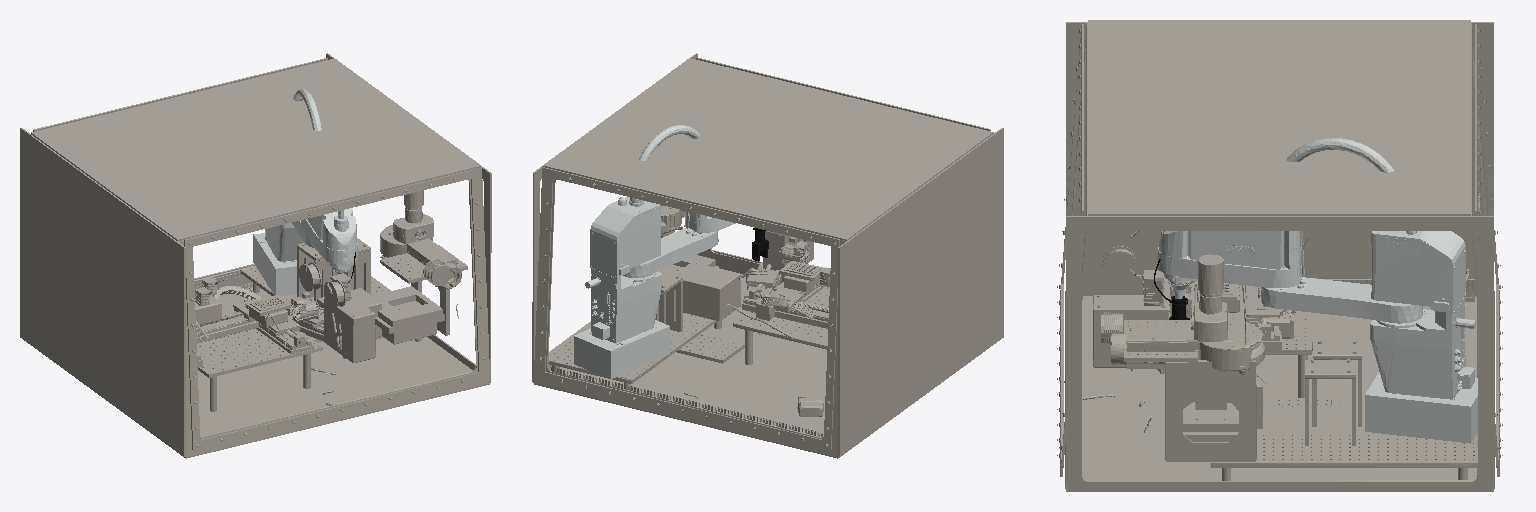
robot.urdf — aurora_glovebox:
<?xml version="1.0"?>
<!-- Aurora exfoliation glovebox: the reconstruction in design/aurora-security-cams/reconstruction as an articulated model. World frame = chamber frame (x from the antechamber-end wall, y from the open side, z up from the deck). Written by urdf_export.py. -->
<robot name="aurora_glovebox">
  <link name="world"/>
  <link name="glovebox">
    <visual><origin xyz="0.000000 0.000000 0.000000" rpy="0 0 0"/><geometry><mesh filename="meshes/glovebox.stl" scale="0.001 0.001 0.001"/></geometry><material name="glovebox_mat"><color rgba="0.72 0.70 0.66 1"/></material></visual>
    <collision><origin xyz="0.000000 0.000000 0.000000" rpy="0 0 0"/><geometry><mesh filename="meshes/glovebox.stl" scale="0.001 0.001 0.001"/></geometry></collision>
  </link>
  <joint name="world_to_glovebox" type="fixed">
    <parent link="world"/><child link="glovebox"/>
    <origin xyz="0.000000 0.000000 0.000000" rpy="0.000000 0.000000 0.000000"/>
  </joint>
  <link name="epson_base">
    <visual><origin xyz="0.000000 0.000000 0.000000" rpy="0 0 0"/><geometry><mesh filename="meshes/epson_base.stl" scale="0.001 0.001 0.001"/></geometry><material name="epson_base_mat"><color rgba="0.83 0.85 0.84 1"/></material></visual>
    <collision><origin xyz="0.000000 0.000000 0.000000" rpy="0 0 0"/><geometry><mesh filename="meshes/epson_base.stl" scale="0.001 0.001 0.001"/></geometry></collision>
  </link>
  <!-- J1 axis at the base's underside; the base's front (Epson local +X) at yaw from +x -->
  <joint name="epson_mount" type="fixed">
    <parent link="glovebox"/><child link="epson_base"/>
    <origin xyz="0.936700 0.875200 0.182200" rpy="0.000000 0.000000 4.453731"/>
  </joint>
  <link name="epson_arm1">
    <visual><origin xyz="0.000000 0.000000 0.000000" rpy="0 0 0"/><geometry><mesh filename="meshes/epson_arm1.stl" scale="0.001 0.001 0.001"/></geometry><material name="epson_arm1_mat"><color rgba="0.83 0.85 0.84 1"/></material></visual>
    <collision><origin xyz="0.000000 0.000000 0.000000" rpy="0 0 0"/><geometry><mesh filename="meshes/epson_arm1.stl" scale="0.001 0.001 0.001"/></geometry></collision>
  </link>
  <!-- velocity: the spec sheet gives J1 and J2 only as a composite tool speed; J4's limit is used as a loose bound -->
  <joint name="J1" type="revolute">
    <parent link="epson_base"/><child link="epson_arm1"/>
    <origin xyz="0.000000 0.000000 0.000000" rpy="0.000000 0.000000 0.000000"/>
    <axis xyz="0 0 1"/>
    <limit lower="-2.303835" upper="2.303835" effort="100" velocity="31.4159"/>
  </joint>
  <link name="epson_arm2">
    <visual><origin xyz="0.000000 0.000000 0.000000" rpy="0 0 0"/><geometry><mesh filename="meshes/epson_arm2.stl" scale="0.001 0.001 0.001"/></geometry><material name="epson_arm2_mat"><color rgba="0.83 0.85 0.84 1"/></material></visual>
    <collision><origin xyz="0.000000 0.000000 0.000000" rpy="0 0 0"/><geometry><mesh filename="meshes/epson_arm2.stl" scale="0.001 0.001 0.001"/></geometry></collision>
  </link>
  <joint name="J2" type="revolute">
    <parent link="epson_arm1"/><child link="epson_arm2"/>
    <origin xyz="0.325000 0.000000 0.000000" rpy="0.000000 0.000000 0.000000"/>
    <axis xyz="0 0 1"/>
    <limit lower="-2.617994" upper="2.617994" effort="100" velocity="31.4159"/>
  </joint>
  <link name="epson_shaft">
    <visual><origin xyz="0.000000 0.000000 0.000000" rpy="0 0 0"/><geometry><mesh filename="meshes/epson_shaft.stl" scale="0.001 0.001 0.001"/></geometry><material name="epson_shaft_mat"><color rgba="0.78 0.80 0.81 1"/></material></visual>
    <collision><origin xyz="0.000000 0.000000 0.000000" rpy="0 0 0"/><geometry><mesh filename="meshes/epson_shaft.stl" scale="0.001 0.001 0.001"/></geometry></collision>
  </link>
  <!-- J3 = travel down from the shaft's top stop (Epson's z, 0 to 200 mm) -->
  <joint name="J3" type="prismatic">
    <parent link="epson_arm2"/><child link="epson_shaft"/>
    <origin xyz="0.275000 0.000000 0.000000" rpy="0.000000 0.000000 0.000000"/>
    <axis xyz="0 0 -1"/>
    <limit lower="0.000000" upper="0.200000" effort="100" velocity="1.0000"/>
  </joint>
  <link name="epson_tool">
    <visual><origin xyz="0.000000 0.000000 0.000000" rpy="0 0 0"/><geometry><mesh filename="meshes/epson_tool.stl" scale="0.001 0.001 0.001"/></geometry><material name="epson_tool_mat"><color rgba="0.12 0.12 0.12 1"/></material></visual>
    <collision><origin xyz="0.000000 0.000000 0.000000" rpy="0 0 0"/><geometry><mesh filename="meshes/epson_tool.stl" scale="0.001 0.001 0.001"/></geometry></collision>
  </link>
  <joint name="J4" type="revolute">
    <parent link="epson_shaft"/><child link="epson_tool"/>
    <origin xyz="0.000000 0.000000 0.000000" rpy="0.000000 0.000000 0.000000"/>
    <axis xyz="0 0 1"/>
    <limit lower="-6.283185" upper="6.283185" effort="100" velocity="31.4159"/>
  </joint>
</robot>

--- Render facts (derived) ---
Views: 3 orthographic renders of the robot side by side, from view 1: azimuth 30°, elevation 25°; view 2: azimuth 150°, elevation 25°; view 3: azimuth 270°, elevation 25°.
Robot: aurora_glovebox — 7 links, 6 joints (3 revolute, 1 prismatic, 2 fixed); root link world; default pose: all joints at 0.
Visible links, largest first — view 1: glovebox, epson_base, epson_arm2, epson_arm1; view 2: glovebox, epson_base, epson_arm1, epson_arm2; view 3: glovebox, epson_base, epson_arm2, epson_arm1.
Boxes of the visible links, box(x1,y1,x2,y2) form: glovebox: box(20, 53, 491, 458); epson_base: box(253, 223, 321, 295); epson_arm2: box(301, 208, 357, 274); epson_arm1: box(292, 89, 321, 247); glovebox: box(532, 53, 1003, 458); epson_base: box(574, 197, 669, 378); epson_arm1: box(623, 125, 718, 277); epson_arm2: box(684, 211, 735, 234); glovebox: box(1057, 20, 1502, 491); epson_base: box(1365, 231, 1477, 443); epson_arm2: box(1157, 231, 1304, 289); epson_arm1: box(1261, 138, 1422, 323).
Size in the robot's own frame: 1.22 by 1.17 by 0.8776 metres.
6 mesh visuals loaded from 6 distinct referenced files (6 binary STL).
